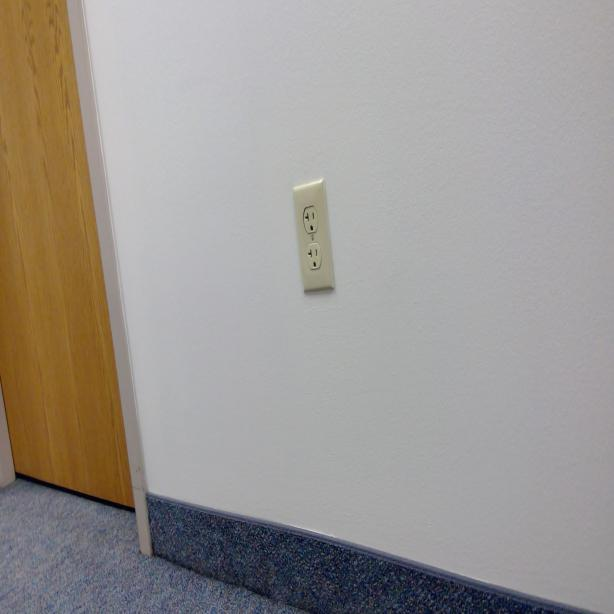typeb: (302, 204, 320, 234), (306, 242, 322, 272)
